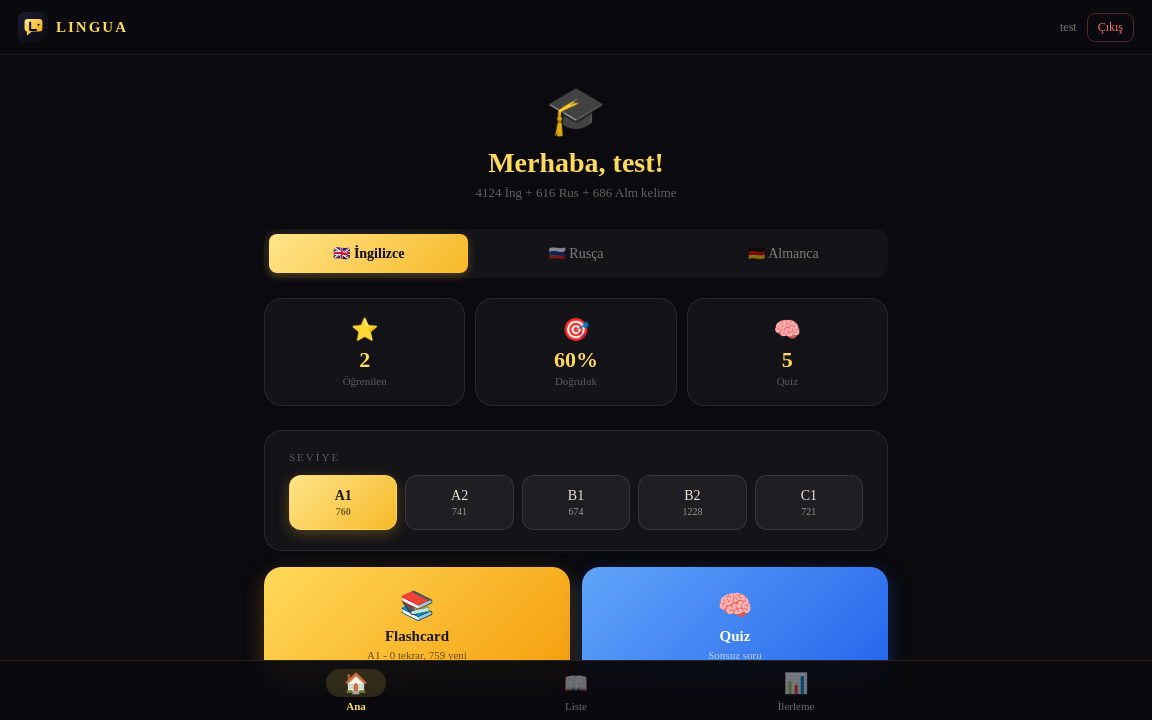
Scenario: Rusça gramer: ana sayfadan ders listesi ve ilk ders açılır
Click the button "🇷🇺 Rusça": (576, 254) [476,234,676,273]
(page scrolled)
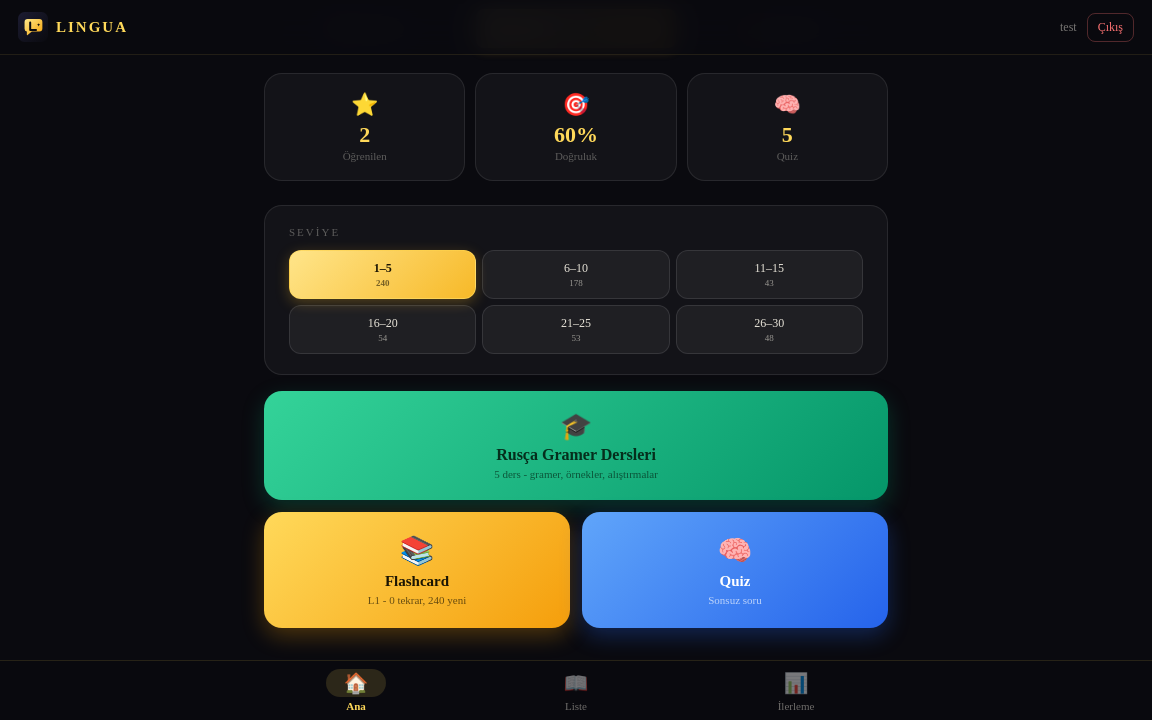
Click the button that starts with "Rusça Gramer Dersleri": (576, 446) [264,391,888,500]
(page scrolled)
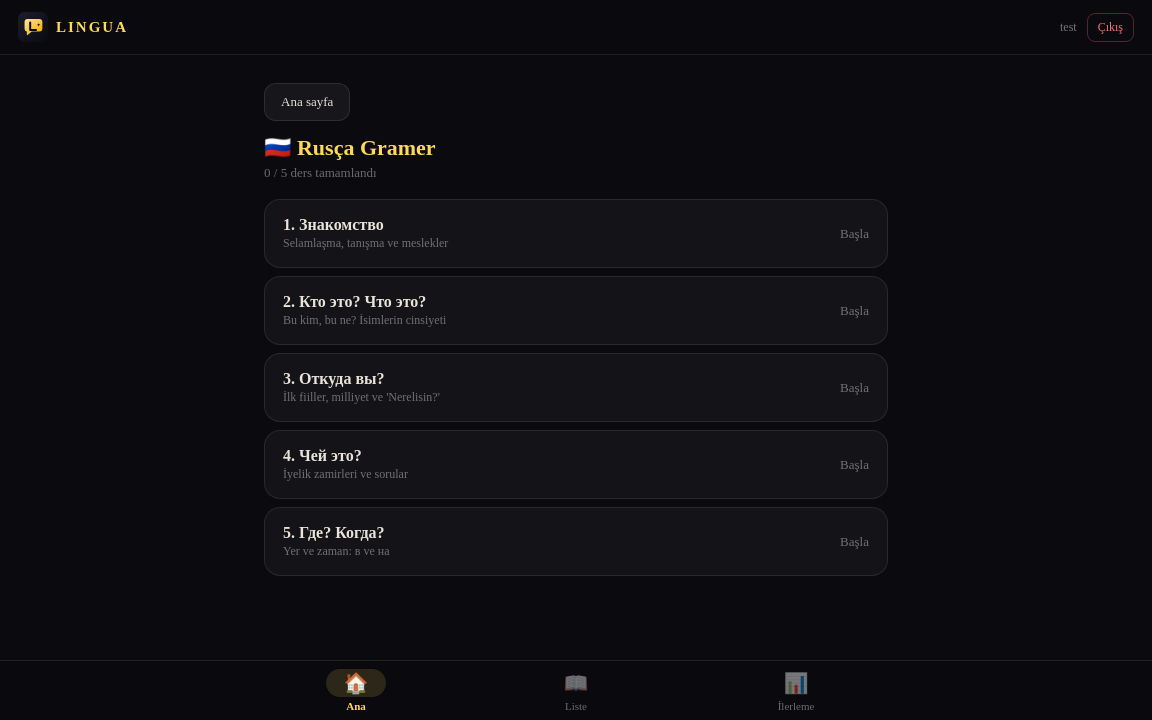
Check: the text "0 / 5 ders tamamlandı" is shown, box [264,165,377,180]
Click the button "1. Знакомство Selamlaşma, tanışma ve meslekler Başla": (341, 224) [264,199,888,268]
(page scrolled)
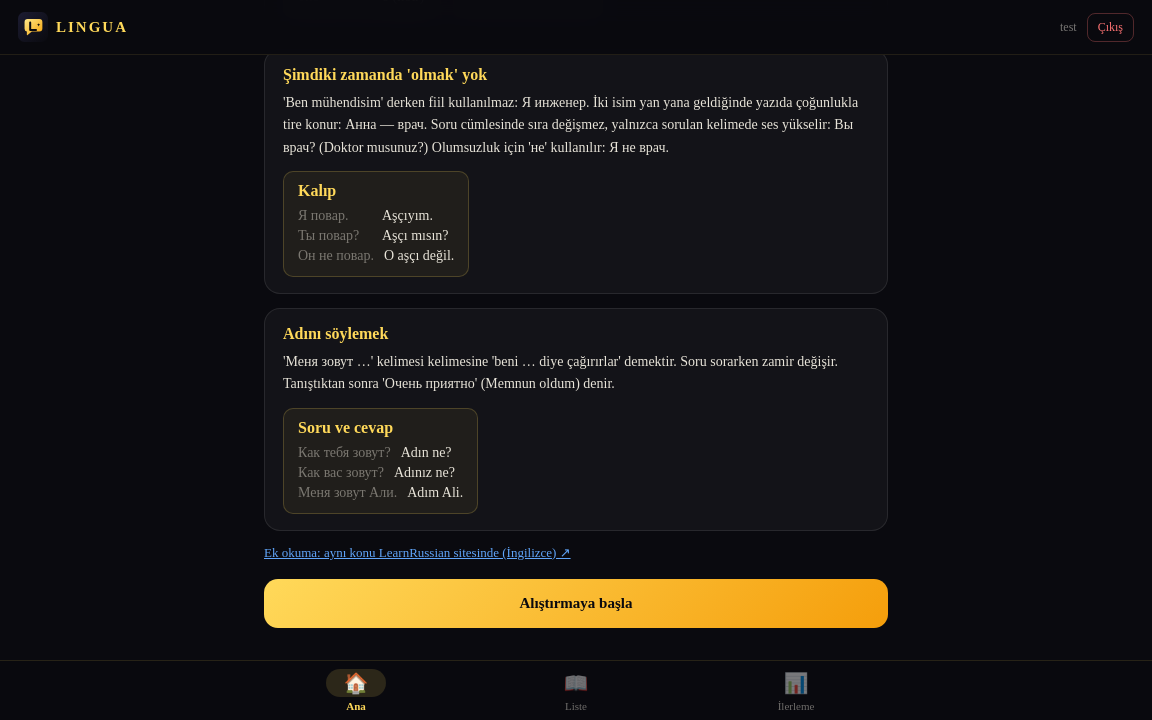
Click the button "Alıştırmaya başla": (576, 603) [264,579,888,628]
(page scrolled)
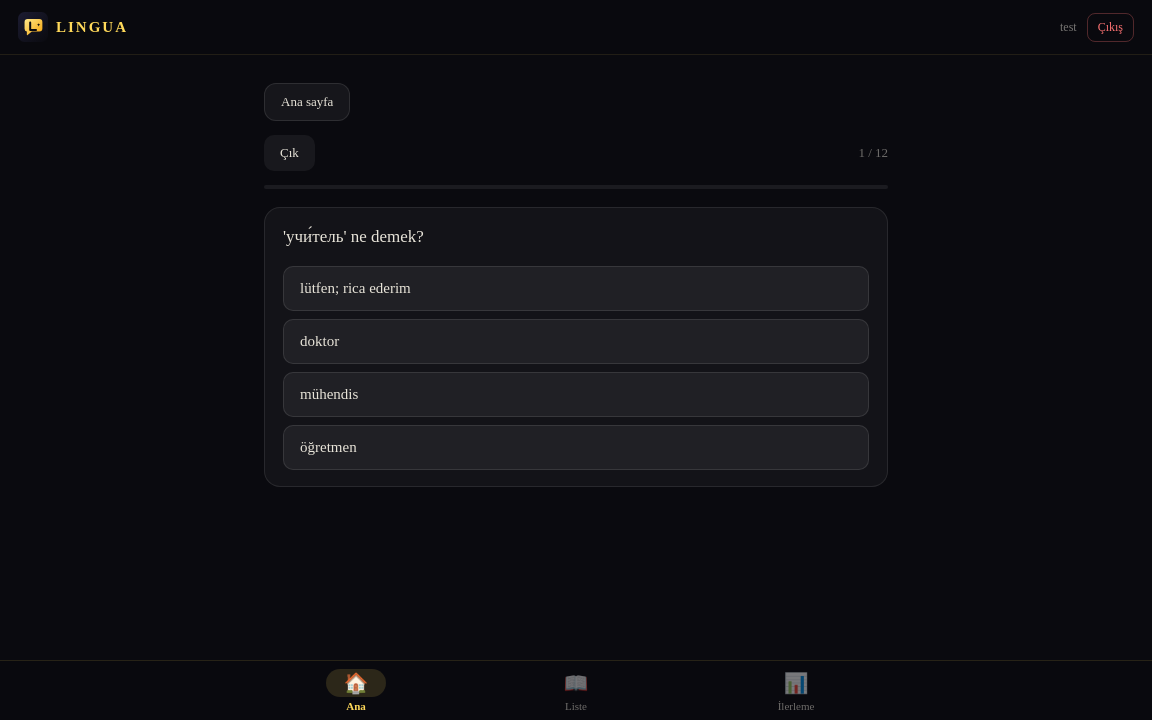
Check: the text "1 / 12" is shown, box [858,145,888,161]
